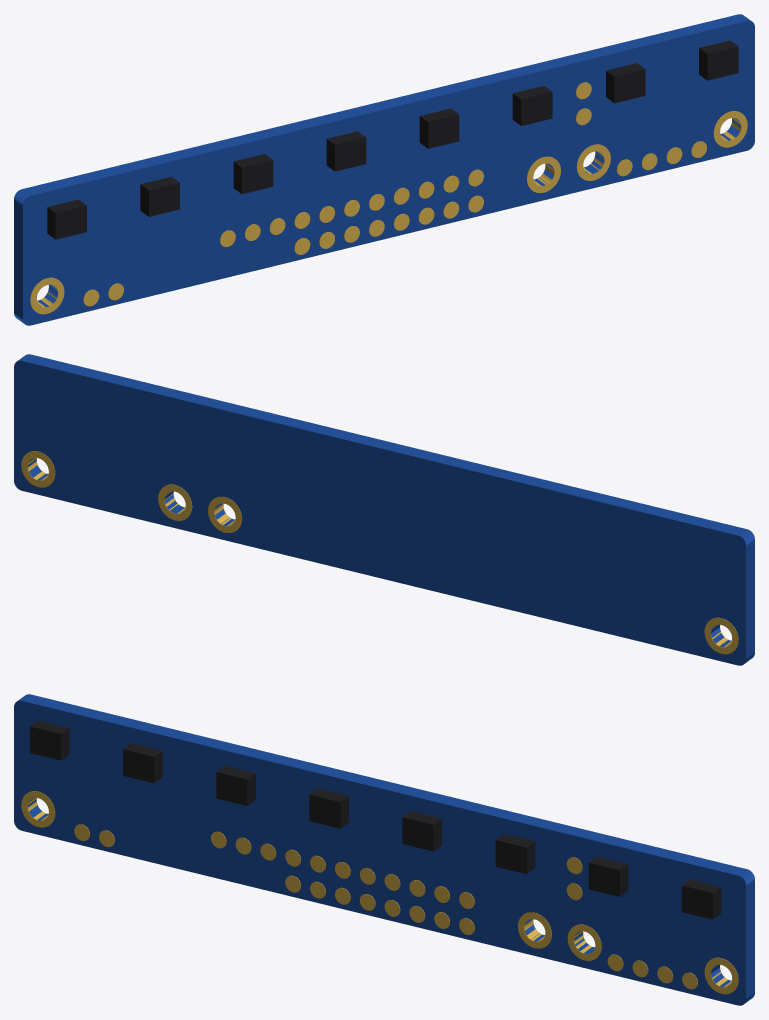
The model's file is pololu-961-qtr-8rc.glb.
The picture shows the model from 3 angles, top to bottom: view 1: azimuth 30°, elevation 25°; view 2: azimuth 150°, elevation 25°; view 3: azimuth 330°, elevation 25°; orthographic projection.
Visible parts, largest first — view 1: board, ir_sensor_5, ir_sensor_4, ir_sensor_6, ir_sensor_3, ir_sensor_1, ir_sensor_2, ir_sensor_8, ir_sensor_7, hole_3, hole_1, hole_4 (+1 smaller); view 2: board, hole_3, hole_1, hole_4, hole_2; view 3: board, ir_sensor_8, ir_sensor_7, ir_sensor_6, ir_sensor_4, ir_sensor_3, ir_sensor_5, ir_sensor_1, ir_sensor_2, hole_3, hole_2, hole_4 (+1 smaller).
Part boxes in pixels (left/top/right/bottom): board: left=14, top=14, right=754, bottom=325; ir_sensor_5: left=419, top=108, right=459, bottom=148; ir_sensor_4: left=326, top=131, right=366, bottom=171; ir_sensor_6: left=512, top=86, right=552, bottom=125; ir_sensor_3: left=233, top=154, right=273, bottom=194; ir_sensor_1: left=47, top=199, right=86, bottom=239; ir_sensor_2: left=140, top=176, right=179, bottom=216; ir_sensor_8: left=699, top=40, right=738, bottom=80; ir_sensor_7: left=606, top=63, right=645, bottom=103; hole_3: left=527, top=156, right=560, bottom=192; hole_1: left=713, top=111, right=747, bottom=147; hole_4: left=30, top=277, right=64, bottom=314; board: left=14, top=354, right=754, bottom=665; hole_3: left=208, top=496, right=241, bottom=532; hole_1: left=21, top=451, right=55, bottom=487; hole_4: left=704, top=617, right=738, bottom=654; hole_2: left=158, top=484, right=192, bottom=520; board: left=14, top=694, right=754, bottom=1005; ir_sensor_8: left=681, top=879, right=721, bottom=919; ir_sensor_7: left=588, top=856, right=628, bottom=896; ir_sensor_6: left=495, top=834, right=535, bottom=874; ir_sensor_4: left=309, top=788, right=348, bottom=828; ir_sensor_3: left=216, top=765, right=255, bottom=805; ir_sensor_5: left=402, top=811, right=441, bottom=851; ir_sensor_1: left=30, top=720, right=69, bottom=760; ir_sensor_2: left=123, top=743, right=162, bottom=783; hole_3: left=517, top=912, right=551, bottom=948; hole_2: left=567, top=924, right=601, bottom=960; hole_4: left=21, top=791, right=55, bottom=827.
Size of the model in its own units: 74.9 by 12.7 by 3.1.
